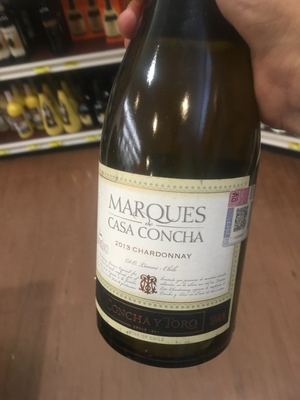marques de casa concha chardonnay: (90, 2, 261, 365)
